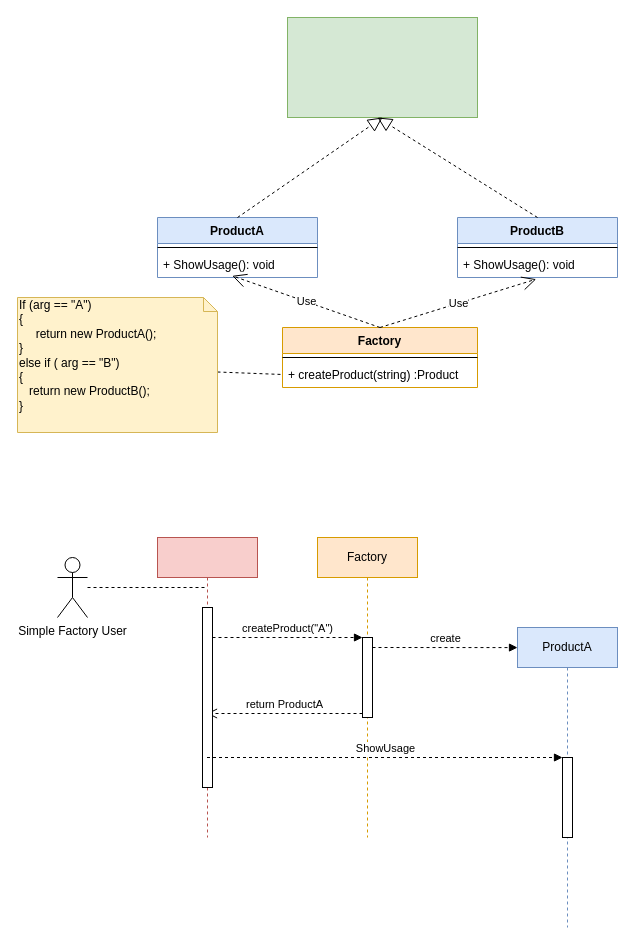
Image size: 635x945. Some labels were removed from this diagram. The box of each missing label's shape, as (x1, y1, x2, y2) in pixels:
<<Interface>> Product + ShowUsage(): void: (286, 16, 478, 118)
main: (156, 536, 258, 838)
